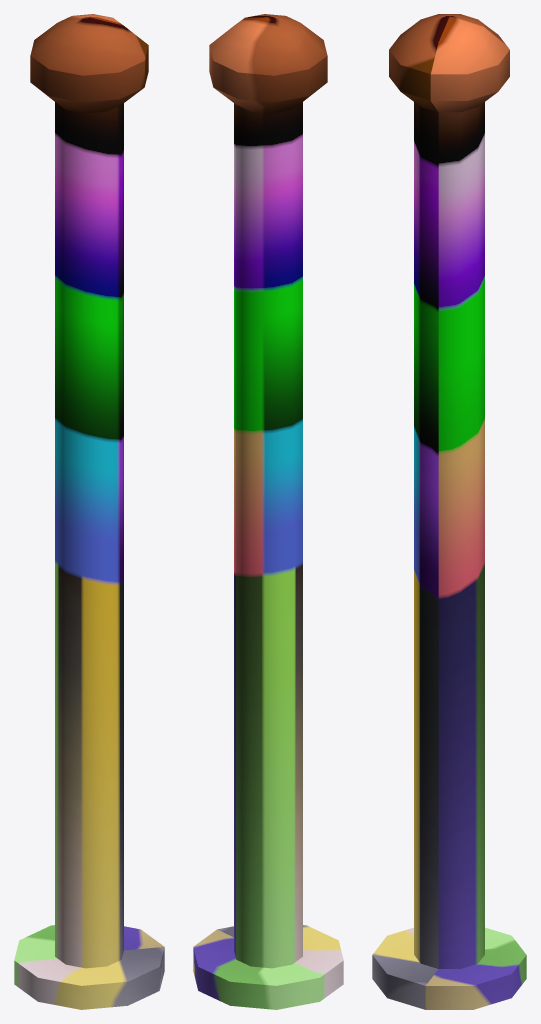
The model's file is Fence_6.FBX.
The picture shows the model from 3 angles, left to right: view 1: azimuth 30°, elevation 25°; view 2: azimuth 150°, elevation 25°; view 3: azimuth 270°, elevation 25°; orthographic projection.
Parts seen in each view (by area): view 1: Fence_6; view 2: Fence_6; view 3: Fence_6.
Boxes of the visible parts, x1,y1,x2,y2 form: Fence_6: (14,14,164,1009); Fence_6: (193,14,343,1009); Fence_6: (372,14,526,1009).
Bounding box in the file's own units: 16.18 × 117 × 17.01.
1 material, 1 textured.
